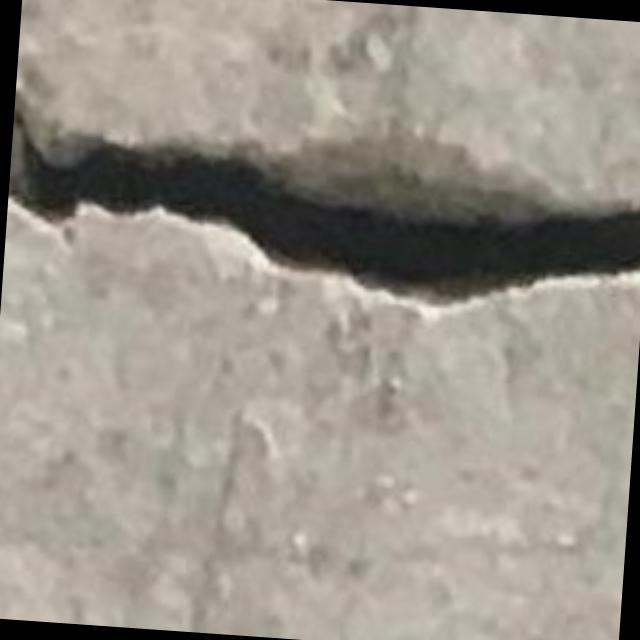crack: (8, 91, 639, 305)
